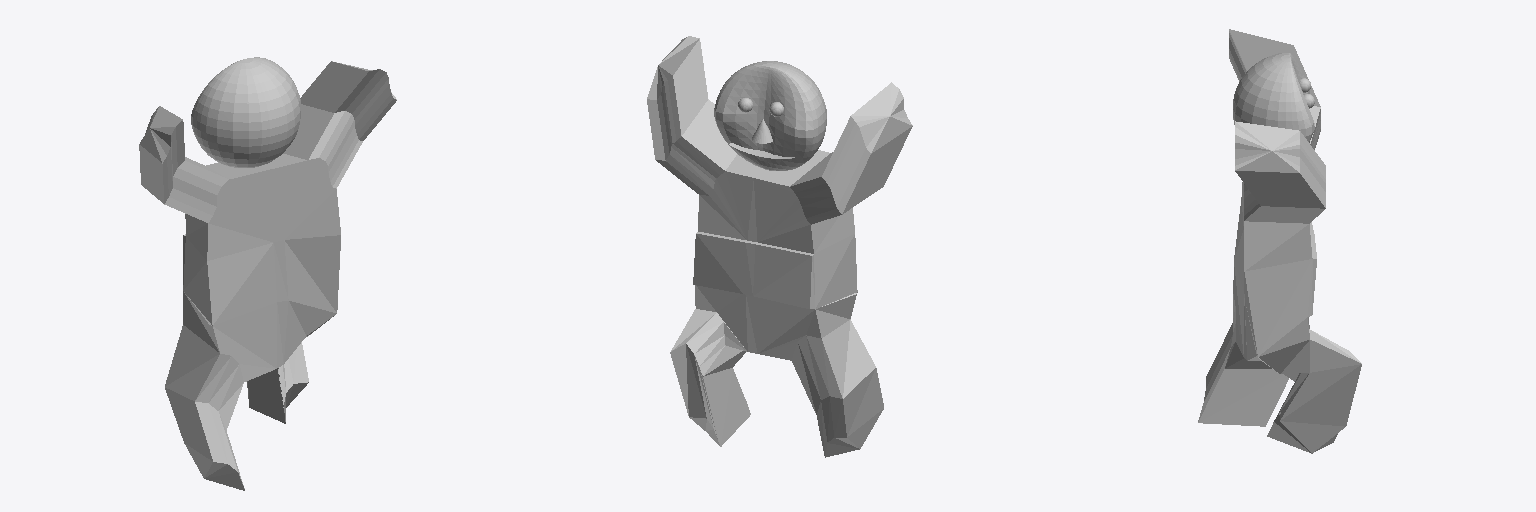
File: man_000011.obj
3 renders of one model, left to right at view 1: azimuth 30°, elevation 25°; view 2: azimuth 150°, elevation 25°; view 3: azimuth 270°, elevation 25°, orthographic.
Parts seen in each view (by area): view 1: Cube; view 2: Cube; view 3: Cube.
Part boxes in pixels (bbox=[...]): Cube: bbox=[139, 57, 396, 490]; Cube: bbox=[647, 36, 912, 457]; Cube: bbox=[1198, 29, 1361, 453].
Bounding box in the file's own units: 79.08 × 124 × 47.31.